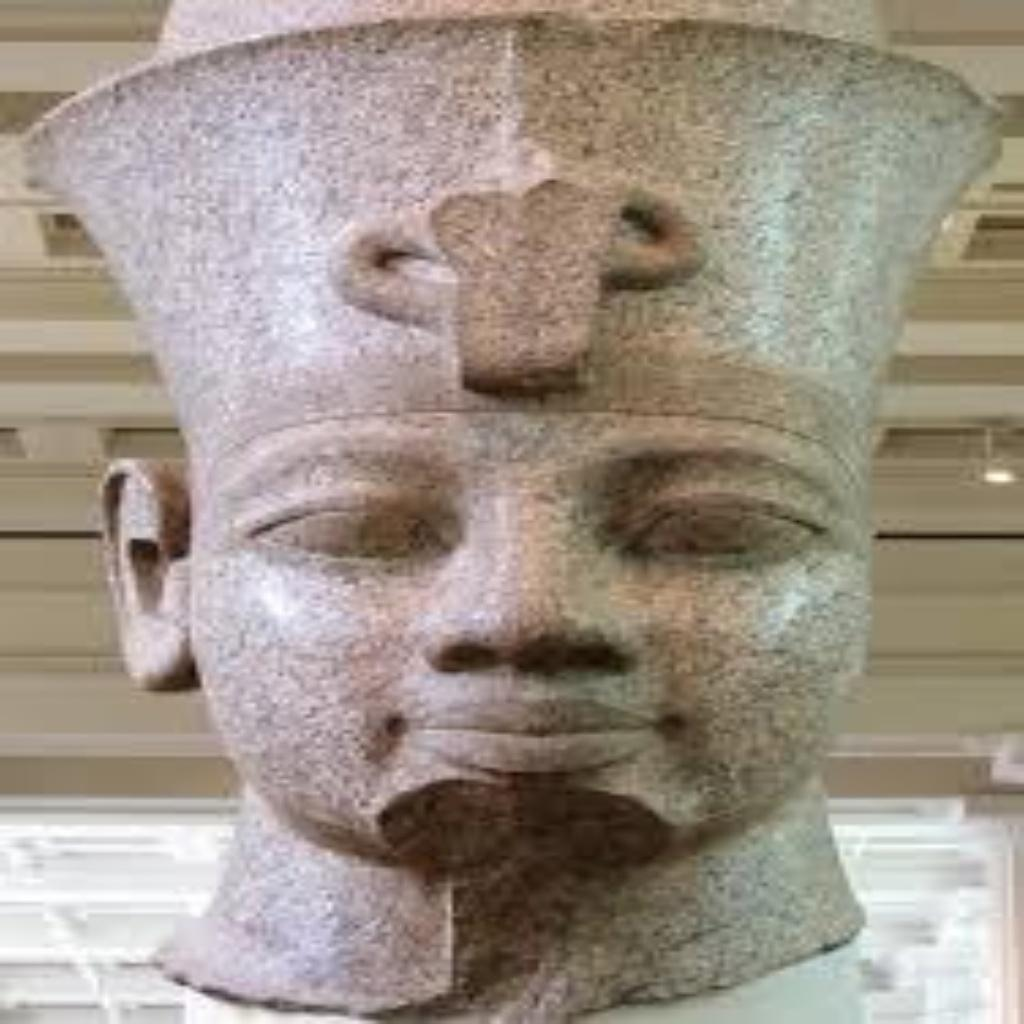Head Statue of Amenhotep iii: (16, 0, 1002, 1020)
